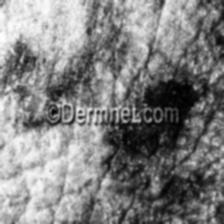Potentially Malignant Skin Tumors: (106, 82, 194, 152)
